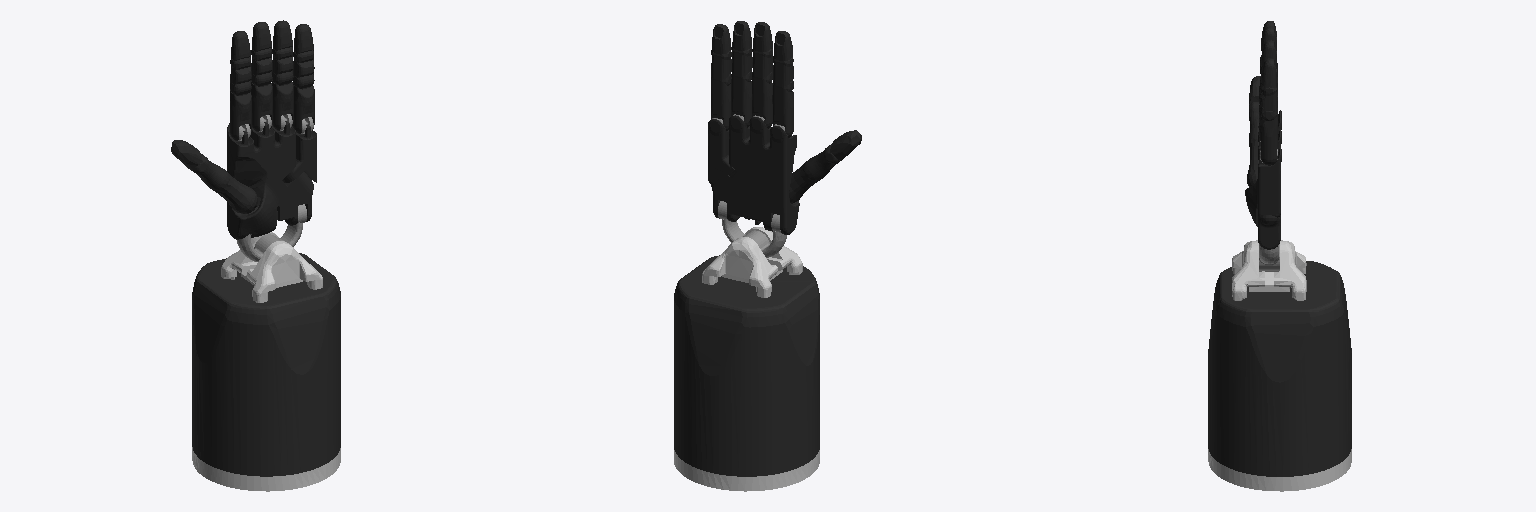
--- Facts derived from the render (not from the file) ---
Views: 3 orthographic renders of the robot side by side, from view 1: azimuth 30°, elevation 25°; view 2: azimuth 150°, elevation 25°; view 3: azimuth 270°, elevation 25°.
Model shadowhand_motor with 32 links and 31 joints (24 revolute, 7 fixed), rooted at lh_forearm, posed every joint at zero.
Links seen in each view (by area): view 1: lh_forearm, lh_palm, lh_wrist, lh_lfmetacarpal, lh_thproximal, lh_ffproximal, lh_mfproximal, lh_rfproximal, lh_lfproximal, lh_ffmiddle, lh_thmiddle, lh_rfmiddle (+3 smaller); view 2: lh_forearm, lh_palm, lh_lfmetacarpal, lh_wrist, lh_ffproximal, lh_mfproximal, lh_rfproximal, lh_lfproximal, lh_thmiddle, lh_ffmiddle, lh_rfmiddle, lh_lfmiddle (+3 smaller); view 3: lh_forearm, lh_palm, lh_lfmetacarpal, lh_lfproximal, lh_lfmiddle.
Boxes of the visible links, box(x1,y1,x2,y2) form: lh_forearm: box(192, 232, 340, 491); lh_palm: box(227, 121, 313, 239); lh_wrist: box(237, 204, 306, 261); lh_lfmetacarpal: box(282, 125, 316, 182); lh_thproximal: box(213, 173, 257, 213); lh_ffproximal: box(230, 90, 251, 140); lh_mfproximal: box(251, 81, 272, 131); lh_rfproximal: box(272, 80, 293, 130); lh_lfproximal: box(293, 84, 314, 133); lh_ffmiddle: box(230, 57, 251, 95); lh_thmiddle: box(188, 153, 229, 191); lh_rfmiddle: box(272, 47, 293, 85); lh_forearm: box(674, 227, 819, 491); lh_palm: box(711, 115, 799, 234); lh_lfmetacarpal: box(708, 119, 736, 184); lh_wrist: box(718, 201, 786, 257); lh_ffproximal: box(772, 86, 793, 137); lh_mfproximal: box(752, 77, 772, 128); lh_rfproximal: box(731, 76, 751, 127); lh_lfproximal: box(711, 79, 730, 130); lh_thmiddle: box(803, 144, 839, 181); lh_ffmiddle: box(773, 56, 793, 91); lh_rfmiddle: box(731, 47, 752, 81); lh_lfmiddle: box(711, 50, 731, 85); lh_forearm: box(1208, 240, 1351, 491); lh_palm: box(1245, 110, 1281, 249); lh_lfmetacarpal: box(1258, 147, 1281, 217); lh_lfproximal: box(1259, 115, 1277, 165); lh_lfmiddle: box(1260, 85, 1277, 120).
Size in the robot's own frame: 0.1784 by 0.1351 by 0.4454 metres.
Meshes: 11 distinct files referenced, 23 mesh visuals loaded (11 Collada DAE).

robot.urdf — shadowhand_motor:
<?xml version="1.0" ?>
<!-- =================================================================================== -->
<!-- |    This document was autogenerated by xacro from shadowhand_left_motor.urdf.xacro | -->
<!-- |    EDITING THIS FILE BY HAND IS NOT RECOMMENDED                                 | -->
<!-- =================================================================================== -->
<robot name="shadowhand_motor" xmlns:body="http://playerstage.sourceforge.net/gazebo/xmlschema/#body" xmlns:controller="http://playerstage.sourceforge.net/gazebo/xmlschema/#controller" xmlns:geom="http://playerstage.sourceforge.net/gazebo/xmlschema/#geom" xmlns:interface="http://playerstage.sourceforge.net/gazebo/xmlschema/#interface" xmlns:joint="http://playerstage.sourceforge.net/gazebo/xmlschema/#slider" xmlns:sensor="http://playerstage.sourceforge.net/gazebo/xmlschema/#sensor" xmlns:xacro="http://www.ros.org/wiki/xacro">
  <material name="Blue">
    <color rgba="0.0 0.0 0.8 1.0"/>
  </material>
  <material name="Green">
    <color rgba="0.0 0.8 0.0 1.0"/>
  </material>
  <material name="BiotacGreen">
    <color rgba="0.31 0.85 0.42 1.0"/>
  </material>
  <material name="Grey">
    <color rgba="0.2 0.2 0.2 1.0"/>
  </material>
  <material name="LightGrey">
    <color rgba="0.6 0.6 0.6 1.0"/>
  </material>
  <material name="Red">
    <color rgba="0.8 0.0 0.0 1.0"/>
  </material>
  <material name="White">
    <color rgba="1.0 1.0 1.0 1.0"/>
  </material>
  <gazebo>
    <plugin filename="libgazebo_ros_control.so" name="gazebo_ros_control">
      <robotSimType>sr_gazebo_sim/SrGazeboHWSim</robotSimType>
    </plugin>
  </gazebo>
  <!-- hand with cylindrical base drifts in gazebo, attach it to the world -->
  <!--link name="world"/>
  <joint name="lh_world_joint" type="fixed">
    <parent link="world"/>
    <child link="lh_forearm"/>
    <origin rpy="0.0 0.0 0.0" xyz="0.0 0.0 0.0"/>
  </joint--> <!-- in pybullet, the inertia need to be specified even for dummy links, otherwise it will put an identity inertia and a mass of 1 by default. The base link should be removed if you want the robot to not have a fixed base! -->
  <link name="lh_forearm">
    <inertial>
      <origin rpy="0 0 0" xyz="0 0 0.09"/>
      <mass value="3.0"/>
      <inertia ixx="0.0138" ixy="0.0" ixz="0.0" iyy="0.0138" iyz="0.0" izz="0.00744"/>
    </inertial>
    <visual>
      <origin rpy="0 0 0" xyz="0 0 0"/>
      <geometry name="lh_forearm_visual">
        <mesh filename="meshes/forearm.dae" scale="0.001 0.001 0.001"/>
      </geometry>
      <material name="light_grey"/>
    </visual>
    <collision>
      <origin rpy="0 0 0" xyz="0 0 0.092"/>
      <geometry name="lh_forearm_collision">
        <cylinder length="0.184" radius="0.07"/>
      </geometry>
      <material name="dark_grey">
        <color rgba="0.21961 0.21961 0.21961 1.0"/>
      </material>
    </collision>
    <!-- wrist mount -->
    <collision>
      <origin rpy="0 0.78 0" xyz="0 -0.01 0.181"/>
      <geometry>
        <box size="0.07 0.07 0.07"/>
      </geometry>
    </collision>
  </link>
  <gazebo reference="lh_forearm">
    <selfCollide>false</selfCollide>
  </gazebo>
  <link name="lh_wrist">
    <inertial>
      <origin rpy="0 0 0" xyz="0 0 0.029"/>
      <mass value="0.1"/>
      <inertia ixx="0.000035" ixy="0.0" ixz="0.0" iyy="0.000064" iyz="0.0" izz="0.0000438"/>
    </inertial>
    <visual>
      <origin rpy="0 0 0" xyz="0 0 0"/>
      <geometry name="lh_wrist_visual">
        <mesh filename="meshes/wrist.dae" scale="-0.001 0.001 0.001"/>
      </geometry>
      <material name="LightGrey"/>
    </visual>
    <collision>
      <origin rpy="1.5708 1.5708 0" xyz="0 0 0"/>
      <geometry name="lh_wrist_collision_geom">
        <cylinder length="0.030" radius="0.0135"/>
      </geometry>
    </collision>
    <collision>
      <origin rpy="0 1.5708 0" xyz="0.026 0 0.034"/>
      <geometry>
        <cylinder length="0.010" radius="0.011"/>
      </geometry>
    </collision>
    <collision>
      <origin rpy="0 1.5708 0" xyz="-0.031 0 0.034"/>
      <geometry>
        <cylinder length="0.010" radius="0.011"/>
      </geometry>
    </collision>
    <collision>
      <origin rpy="0 -0.7854 0" xyz="0.021 0 0.011"/>
      <geometry>
        <box size="0.027 0.018 0.010"/>
      </geometry>
    </collision>
    <collision>
      <origin rpy="0 0.7854 0" xyz="-0.026 0 0.010"/>
      <geometry>
        <box size="0.027 0.018 0.010"/>
      </geometry>
    </collision>
  </link>
  <gazebo reference="lh_wrist">
    <material>Gazebo/White</material>
    <selfCollide>false</selfCollide>
  </gazebo>
  <joint name="lh_WRJ2" type="revolute">
    <parent link="lh_forearm"/>
    <child link="lh_wrist"/>
    <origin rpy="0 0 0" xyz="0 -0.010 0.213"/>
    <axis xyz="0 -1.0 0"/>
    <limit effort="10" lower="-0.523598775598" upper="0.174532925199" velocity="2.0"/>
    <dynamics damping="0.1"/>
  </joint>
  <gazebo reference="lh_WRJ2">
    <provideFeedback>1</provideFeedback>
    <implicitSpringDamper>1</implicitSpringDamper>
  </gazebo>
  <transmission name="lh_wrist_transmission">
    <type>sr_mechanism_model/SimpleTransmission</type>
    <actuator name="lh_WRJ2">
      <mechanicalReduction>1</mechanicalReduction>
    </actuator>
    <joint name="lh_WRJ2">
      <hardwareInterface>EffortJointInterface</hardwareInterface>
      <hardwareInterface>PositionJointInterface</hardwareInterface>
    </joint>
  </transmission>
  <link name="lh_palm">
    <inertial>
      <origin rpy="0 0 0" xyz="0 0 0.035"/>
      <mass value="0.3"/>
      <inertia ixx="0.0003581" ixy="0.0" ixz="0.0" iyy="0.0005287" iyz="0.0" izz="0.000191"/>
    </inertial>
    <visual>
      <origin rpy="0 0 0" xyz="0 0 0"/>
      <geometry name="lh_palm_visual">
        <mesh filename="meshes/palm.dae" scale="-0.001 0.001 0.001"/>
      </geometry>
      <material name="Grey"/>
    </visual>
    <collision>
      <origin rpy="0 0 0" xyz="-0.011 0.0085 0.038"/>
      <geometry name="lh_palm_collision_geom">
        <box size="0.062 0.007 0.098"/>
      </geometry>
    </collision>
    <collision>
      <origin rpy="0 0 0" xyz="0.002 -0.0035 0.038"/>
      <geometry>
        <box size="0.036 0.017 0.098"/>
      </geometry>
    </collision>
    <!-- palm complement below first finger -->
    <collision>
      <origin rpy="0 0 0" xyz="-0.029 -0.0035 0.082"/>
      <geometry>
        <box size="0.026 0.017 0.010"/>
      </geometry>
    </collision>
    <collision>
      <origin rpy="0.2 0 -0.25" xyz="-0.0265 -0.001 0.070"/>
      <geometry>
        <box size="0.026 0.014 0.018"/>
      </geometry>
    </collision>
    <!-- thumb pulp side -->
    <collision>
      <origin rpy="0 0 0" xyz="-0.0315 -0.0085 0.001"/>
      <geometry>
        <box size="0.021 0.027 0.024"/>
      </geometry>
    </collision>
    <!-- thumb pulp central -->
    <collision>
      <origin rpy="0 0 0.48" xyz="-0.0125 -0.015 0.009"/>
      <geometry>
        <box size="0.022 0.005 0.040"/>
      </geometry>
    </collision>
    <!-- above middle finger-->
    <collision>
      <origin rpy="0 0 0" xyz="-0.011 0 0.089"/>
      <geometry>
        <box size="0.018 0.024 0.004"/>
      </geometry>
    </collision>
    <!-- metacarpal side-->
    <collision>
      <origin rpy="0 0 0" xyz="0.03 0 0.009"/>
      <geometry>
        <box size="0.020 0.024 0.040"/>
      </geometry>
    </collision>
  </link>
  <joint name="lh_ee_fixed_joint" type="fixed">
    <parent link="lh_palm"/>
    <child link="lh_manipulator"/>
    <origin rpy="0.0 0.0 0.0" xyz="0.0 0.0 0.05"/>
  </joint>
  <link name="lh_manipulator"/>
  <joint name="lh_WRJ1" type="revolute">
    <parent link="lh_wrist"/>
    <child link="lh_palm"/>
    <origin rpy="0 0 0" xyz="0 0 0.034"/>
    <axis xyz="1 0 0"/>
    <limit effort="30" lower="-0.698131700798" upper="0.488692190558" velocity="2.0"/>
    <dynamics damping="0.1"/>
  </joint>
  <gazebo reference="lh_WRJ1">
    <provideFeedback>1</provideFeedback>
    <implicitSpringDamper>1</implicitSpringDamper>
  </gazebo>
  <link name="lh_imu"/>
  <joint name="lh_palm_to_imu" type="fixed">
    <parent link="lh_palm"/>
    <child link="lh_imu"/>
    <origin rpy="-1.5707963 3.141592 0.0" xyz="0.01785 0.00765 0.049125"/>
  </joint>
  <sensor name="lh_imu" update_rate="100">
    <parent link="lh_imu"/>
    <origin rpy="0 0 0" xyz="0 0 0"/>
  </sensor>
  <transmission name="lh_palm_transmission">
    <type>sr_mechanism_model/SimpleTransmission</type>
    <actuator name="lh_WRJ1">
      <mechanicalReduction>1</mechanicalReduction>
    </actuator>
    <joint name="lh_WRJ1">
      <hardwareInterface>EffortJointInterface</hardwareInterface>
      <hardwareInterface>PositionJointInterface</hardwareInterface>
    </joint>
  </transmission>
  <!-- prefix can be anything but usually is "r_" or  "l_" for right and left hands distinction -->
  <gazebo reference="lh_palm">
    <sensor name="lh_palm_contact" type="contact">
      <always_on>1</always_on>
      <update_rate>1000.0</update_rate>
      <contact>
        <collision>lh_palm_collision</collision>
        <topic>lh_palm_collision</topic>
      </contact>
      <plugin filename="libgazebo_ros_bumper.so" name="lh_palm_gazebo_ros_bumper_controller">
        <alwaysOn>true</alwaysOn>
        <frameName>lh_palm</frameName>
        <updateRate>100.0</updateRate>
        <bumperTopicName>contacts/lh_palm</bumperTopicName>
      </plugin>
    </sensor>
  </gazebo>
  <link name="lh_ffknuckle">
    <inertial>
      <origin rpy="0 0 0" xyz="0 0 0"/>
      <mass value="0.008"/>
      <inertia ixx="0.00000026" ixy="0.0" ixz="0.0" iyy="0.00000026" iyz="0.0" izz="0.00000032"/>
    </inertial>
    <visual>
      <origin rpy="0 0 0" xyz="0 0 0.0005"/>
      <geometry name="lh_ffknuckle_visual">
        <mesh filename="meshes/knuckle.dae" scale="0.001 0.001 0.001"/>
      </geometry>
      <material name="LightGrey"/>
    </visual>
    <collision>
      <origin rpy="0 1.5708 0" xyz="0 0 0"/>
      <geometry name="lh_ffknuckle_collision_geom">
        <cylinder length="0.014" radius="0.007"/>
      </geometry>
    </collision>
  </link>
  <joint name="lh_FFJ4" type="revolute">
    <parent link="lh_palm"/>
    <child link="lh_ffknuckle"/>
    <!--<origin xyz="0.033 0 0.095" rpy="0 0 0" />-->
    <origin rpy="0 0 0" xyz="-0.033 0 0.095"/>
    <axis xyz="0 1.0 0"/>
    <limit effort="2" lower="-0.349065850399" upper="0.349065850399" velocity="2.0"/>
    <dynamics damping="0.1"/>
  </joint>
  <gazebo reference="lh_FFJ4">
    <provideFeedback>1</provideFeedback>
    <implicitSpringDamper>1</implicitSpringDamper>
  </gazebo>
  <transmission name="lh_ffknuckle_transmission">
    <type>sr_mechanism_model/SimpleTransmission</type>
    <actuator name="lh_FFJ4">
      <mechanicalReduction>1</mechanicalReduction>
    </actuator>
    <joint name="lh_FFJ4">
      <hardwareInterface>EffortJointInterface</hardwareInterface>
      <hardwareInterface>PositionJointInterface</hardwareInterface>
    </joint>
  </transmission>
  <!-- prefix can be anything but usually is "r_" or  "l_" for right and left hands distinction -->
  <gazebo reference="lh_ffknuckle">
    <sensor name="lh_ffknuckle_contact" type="contact">
      <always_on>1</always_on>
      <update_rate>1000.0</update_rate>
      <contact>
        <collision>lh_ffknuckle_collision</collision>
        <topic>lh_ffknuckle_collision</topic>
      </contact>
      <plugin filename="libgazebo_ros_bumper.so" name="lh_ffknuckle_gazebo_ros_bumper_controller">
        <alwaysOn>true</alwaysOn>
        <frameName>lh_ffknuckle</frameName>
        <updateRate>100.0</updateRate>
        <bumperTopicName>contacts/lh_ff/knuckle</bumperTopicName>
      </plugin>
    </sensor>
    <material>Gazebo/Grey</material>
  </gazebo>
  <link name="lh_ffproximal">
    <inertial>
      <mass value="0.030"/>
      <origin xyz="0 0 0.0225"/>
      <inertia ixx="0.0000098" ixy="0.0" ixz="0.0" iyy="0.00001" iyz="0.0" izz="0.0000018"/>
    </inertial>
    <visual>
      <origin rpy="0 0 0" xyz="0 0 0"/>
      <geometry name="lh_ffproximal_visual">
        <mesh filename="meshes/F3.dae" scale="0.001 0.001 0.001"/>
      </geometry>
      <material name="Grey"/>
    </visual>
    <collision>
      <origin rpy="0 0 0" xyz="0 0 0.025"/>
      <geometry name="lh_ffproximal_collision_geom">
        <cylinder length="0.040" radius="0.007"/>
      </geometry>
    </collision>
  </link>
  <joint name="lh_FFJ3" type="revolute">
    <parent link="lh_ffknuckle"/>
    <child link="lh_ffproximal"/>
    <origin rpy="0 0 0" xyz="0 0 0"/>
    <axis xyz="1 0 0"/>
    <limit effort="2" lower="0" upper="1.57079632679" velocity="2.0"/>
    <dynamics damping="0.1"/>
  </joint>
  <gazebo reference="lh_FFJ3">
    <provideFeedback>1</provideFeedback>
    <implicitSpringDamper>1</implicitSpringDamper>
  </gazebo>
  <transmission name="lh_ffproximal_transmission">
    <type>sr_mechanism_model/SimpleTransmission</type>
    <actuator name="lh_FFJ3">
      <mechanicalReduction>1</mechanicalReduction>
    </actuator>
    <joint name="lh_FFJ3">
      <hardwareInterface>EffortJointInterface</hardwareInterface>
      <hardwareInterface>PositionJointInterface</hardwareInterface>
    </joint>
  </transmission>
  <!-- prefix can be anything but usually is "r_" or  "l_" for right and left hands distinction -->
  <gazebo reference="lh_ffproximal">
    <sensor name="lh_ffproximal_contact" type="contact">
      <always_on>1</always_on>
      <update_rate>1000.0</update_rate>
      <contact>
        <collision>lh_ffproximal_collision</collision>
        <topic>lh_ffproximal_collision</topic>
      </contact>
      <plugin filename="libgazebo_ros_bumper.so" name="lh_ffproximal_gazebo_ros_bumper_controller">
        <alwaysOn>true</alwaysOn>
        <frameName>lh_ffproximal</frameName>
        <updateRate>100.0</updateRate>
        <bumperTopicName>contacts/lh_ff/proximal</bumperTopicName>
      </plugin>
    </sensor>
    <selfCollide>true</selfCollide>
  </gazebo>
  <link name="lh_ffmiddle">
    <inertial>
      <origin rpy="0 0 0" xyz="0 0 0.0125"/>
      <mass value="0.017"/>
      <inertia ixx="0.0000026" ixy="0.0" ixz="0.0" iyy="0.0000027" iyz="0.0" izz="0.00000087"/>
    </inertial>
    <visual>
      <origin rpy="0 0 0" xyz="0 0 0"/>
      <geometry name="lh_ffmiddle_visual">
        <mesh filename="meshes/F2.dae" scale="0.001 0.001 0.001"/>
      </geometry>
      <material name="Grey"/>
    </visual>
    <collision>
      <origin rpy="0 0 0" xyz="0 0 0.0125"/>
      <geometry name="lh_ffmiddle_collision_geom">
        <cylinder length="0.025" radius="0.007"/>
      </geometry>
    </collision>
    <collision>
      <origin rpy="0 0 0" xyz="0 0 0.0"/>
      <geometry>
        <sphere radius="0.007"/>
      </geometry>
    </collision>
    <collision>
      <origin rpy="0 0 0" xyz="0 0 0.025"/>
      <geometry>
        <sphere radius="0.007"/>
      </geometry>
    </collision>
  </link>
  <joint name="lh_FFJ2" type="revolute">
    <parent link="lh_ffproximal"/>
    <child link="lh_ffmiddle"/>
    <origin rpy="0 0 0" xyz="0 0 0.045"/>
    <axis xyz="1 0 0"/>
    <limit effort="2" lower="0" upper="1.57079632679" velocity="2.0"/>
    <dynamics damping="0.1"/>
  </joint>
  <gazebo reference="lh_FFJ2">
    <provideFeedback>1</provideFeedback>
    <implicitSpringDamper>1</implicitSpringDamper>
  </gazebo>
  <transmission name="lh_ffmiddle_transmission">
    <type>sr_mechanism_model/J0Transmission</type>
    <actuator name="lh_FFJ0">
      <mechanicalReduction>1</mechanicalReduction>
    </actuator>
    <joint name="lh_FFJ1">
      <hardwareInterface>EffortJointInterface</hardwareInterface>
      <hardwareInterface>PositionJointInterface</hardwareInterface>
    </joint>
    <secondJoint name="lh_FFJ2"/>
  </transmission>
  <!-- prefix can be anything but usually is "r_" or  "l_" for right and left hands distinction -->
  <gazebo reference="lh_ffmiddle">
    <sensor name="lh_ffmiddle_contact" type="contact">
      <always_on>1</always_on>
      <update_rate>1000.0</update_rate>
      <contact>
        <collision>lh_ffmiddle_collision</collision>
        <topic>lh_ffmiddle_collision</topic>
      </contact>
      <plugin filename="libgazebo_ros_bumper.so" name="lh_ffproximal_gazebo_ros_bumper_controller">
        <alwaysOn>true</alwaysOn>
        <frameName>lh_ffmiddle</frameName>
        <updateRate>100.0</updateRate>
        <bumperTopicName>contacts/lh_ff/middle</bumperTopicName>
      </plugin>
    </sensor>
    <selfCollide>true</selfCollide>
  </gazebo>
  <link name="lh_ffdistal">
    <inertial>
      <mass value="0.012"/>
      <origin xyz="0 0 0.012"/>
      <inertia ixx="0.00000094" ixy="0.0" ixz="0.0" iyy="0.0000011" iyz="0.0" izz="0.00000053"/>
    </inertial>
    <visual>
      <origin rpy="0 0 0" xyz="0 0 0"/>
      <geometry name="lh_ffdistal_visual">
        <!-- Standard distal  -->
        <mesh filename="meshes/F1.dae" scale="0.001 0.001 0.001"/>
      </geometry>
      <material name="Grey"/>
    </visual>
    <collision>
      <origin rpy="0 0 0" xyz="0 0 0"/>
      <geometry name="lh_ffdistal_collision_geom">
        <!-- Standard distal  -->
        <mesh filename="meshes/F1.dae" scale="0.001 0.001 0.001"/>
      </geometry>
    </collision>
  </link>
  <joint name="lh_FFJ1" type="revolute">
    <parent link="lh_ffmiddle"/>
    <child link="lh_ffdistal"/>
    <origin rpy="0 0 0" xyz="0 0 0.025"/>
    <axis xyz="1 0 0"/>
    <!-- standard distal joint -->
    <limit effort="2" lower="0" upper="1.57079632679" velocity="2.0"/>
    <dynamics damping="0.1"/>
  </joint>
  <gazebo reference="lh_FFJ1">
    <provideFeedback>1</provideFeedback>
    <implicitSpringDamper>1</implicitSpringDamper>
  </gazebo>
  <link name="lh_fftip">
    <inertial>
      <mass value="0.001"/>
      <inertia ixx="0.0" ixy="0.0" ixz="0.0" iyy="0.0" iyz="0.0" izz="0.0"/>
    </inertial>
  </link>
  <joint name="lh_FFtip" type="fixed">
    <parent link="lh_ffdistal"/>
    <child link="lh_fftip"/>
    <origin rpy="0 0 0" xyz="0 0 0.026"/>
  </joint>
  <!-- prefix can be anything but usually is "r_" or  "l_" for right and left hands distinction -->
  <gazebo reference="lh_ffdistal">
    <sensor name="lh_ffdistal_contact" type="contact">
      <always_on>1</always_on>
      <update_rate>1000.0</update_rate>
      <contact>
        <collision>lh_ffdistal_collision</collision>
        <topic>lh_ffdistal_collision</topic>
      </contact>
      <plugin filename="libgazebo_ros_bumper.so" name="lh_ffdistal_gazebo_ros_bumper_controller">
        <alwaysOn>true</alwaysOn>
        <frameName>lh_ffdistal</frameName>
        <updateRate>100.0</updateRate>
        <bumperTopicName>contacts/lh_ff/distal</bumperTopicName>
      </plugin>
    </sensor>
    <mu1 value="500.0"/>
    <mu2 value="500.0"/>
    <kp value="10000000.0"/>
    <kd value="1.0"/>
    <selfCollide>true</selfCollide>
  </gazebo>
  <link name="lh_mfknuckle">
    <inertial>
      <origin rpy="0 0 0" xyz="0 0 0"/>
      <mass value="0.008"/>
      <inertia ixx="0.00000026" ixy="0.0" ixz="0.0" iyy="0.00000026" iyz="0.0" izz="0.00000032"/>
    </inertial>
    <visual>
      <origin rpy="0 0 0" xyz="0 0 0.0005"/>
      <geometry name="lh_mfknuckle_visual">
        <mesh filename="meshes/knuckle.dae" scale="0.001 0.001 0.001"/>
      </geometry>
      <material name="LightGrey"/>
    </visual>
    <collision>
      <origin rpy="0 1.5708 0" xyz="0 0 0"/>
      <geometry name="lh_mfknuckle_collision_geom">
        <cylinder length="0.014" radius="0.007"/>
      </geometry>
    </collision>
  </link>
  <joint name="lh_MFJ4" type="revolute">
    <parent link="lh_palm"/>
    <child link="lh_mfknuckle"/>
    <!--<origin xyz="0.033 0 0.095" rpy="0 0 0" />-->
    <origin rpy="0 0 0" xyz="-0.011 0 0.099"/>
    <axis xyz="0 1.0 0"/>
    <limit effort="2" lower="-0.349065850399" upper="0.349065850399" velocity="2.0"/>
    <dynamics damping="0.1"/>
  </joint>
  <gazebo reference="lh_MFJ4">
    <provideFeedback>1</provideFeedback>
    <implicitSpringDamper>1</implicitSpringDamper>
  </gazebo>
  <transmission name="lh_mfknuckle_transmission">
    <type>sr_mechanism_model/SimpleTransmission</type>
    <actuator name="lh_MFJ4">
      <mechanicalReduction>1</mechanicalReduction>
    </actuator>
    <joint name="lh_MFJ4">
      <hardwareInterface>EffortJointInterface</hardwareInterface>
      <hardwareInterface>PositionJointInterface</hardwareInterface>
    </joint>
  </transmission>
  <!-- prefix can be anything but usually is "r_" or  "l_" for right and left hands distinction -->
  <gazebo reference="lh_mfknuckle">
    <sensor name="lh_mfknuckle_contact" type="contact">
      <always_on>1</always_on>
      <update_rate>1000.0</update_rate>
      <contact>
        <collision>lh_mfknuckle_collision</collision>
        <topic>lh_mfknuckle_collision</topic>
      </contact>
      <plugin filename="libgazebo_ros_bumper.so" name="lh_mfknuckle_gazebo_ros_bumper_controller">
        <alwaysOn>true</alwaysOn>
        <frameName>lh_mfknuckle</frameName>
        <updateRate>100.0</updateRate>
        <bumperTopicName>contacts/lh_mf/knuckle</bumperTopicName>
      </plugin>
    </sensor>
    <material>Gazebo/Grey</material>
  </gazebo>
  <link name="lh_mfproximal">
    <inertial>
      <mass value="0.030"/>
      <origin xyz="0 0 0.0225"/>
      <inertia ixx="0.0000098" ixy="0.0" ixz="0.0" iyy="0.00001" iyz="0.0" izz="0.0000018"/>
    </inertial>
    <visual>
      <origin rpy="0 0 0" xyz="0 0 0"/>
      <geometry name="lh_mfproximal_visual">
        <mesh filename="meshes/F3.dae" scale="0.001 0.001 0.001"/>
      </geometry>
      <material name="Grey"/>
    </visual>
    <collision>
      <origin rpy="0 0 0" xyz="0 0 0.025"/>
      <geometry name="lh_mfproximal_collision_geom">
        <cylinder length="0.040" radius="0.007"/>
      </geometry>
    </collision>
  </link>
  <joint name="lh_MFJ3" type="revolute">
    <parent link="lh_mfknuckle"/>
    <child link="lh_mfproximal"/>
    <origin rpy="0 0 0" xyz="0 0 0"/>
    <axis xyz="1 0 0"/>
    <limit effort="2" lower="0" upper="1.57079632679" velocity="2.0"/>
    <dynamics damping="0.1"/>
  </joint>
  <gazebo reference="lh_MFJ3">
    <provideFeedback>1</provideFeedback>
    <implicitSpringDamper>1</implicitSpringDamper>
  </gazebo>
  <transmission name="lh_mfproximal_transmission">
    <type>sr_mechanism_model/SimpleTransmission</type>
    <actuator name="lh_MFJ3">
      <mechanicalReduction>1</mechanicalReduction>
    </actuator>
    <joint name="lh_MFJ3">
      <hardwareInterface>EffortJointInterface</hardwareInterface>
      <hardwareInterface>PositionJointInterface</hardwareInterface>
    </joint>
  </transmission>
  <!-- prefix can be anything but usually is "r_" or  "l_" for right and left hands distinction -->
  <gazebo reference="lh_mfproximal">
    <sensor name="lh_mfproximal_contact" type="contact">
      <always_on>1</always_on>
      <update_rate>1000.0</update_rate>
      <contact>
        <collision>lh_mfproximal_collision</collision>
        <topic>lh_mfproximal_collision</topic>
      </contact>
      <plugin filename="libgazebo_ros_bumper.so" name="lh_mfproximal_gazebo_ros_bumper_controller">
        <alwaysOn>true</alwaysOn>
        <frameName>lh_mfproximal</frameName>
        <updateRate>100.0</updateRate>
        <bumperTopicName>contacts/lh_mf/proximal</bumperTopicName>
      </plugin>
    </sensor>
    <selfCollide>true</selfCollide>
  </gazebo>
  <link name="lh_mfmiddle">
    <inertial>
      <origin rpy="0 0 0" xyz="0 0 0.0125"/>
      <mass value="0.017"/>
      <inertia ixx="0.0000026" ixy="0.0" ixz="0.0" iyy="0.0000027" iyz="0.0" izz="0.00000087"/>
    </inertial>
    <visual>
      <origin rpy="0 0 0" xyz="0 0 0"/>
      <geometry name="lh_mfmiddle_visual">
        <mesh filename="meshes/F2.dae" scale="0.001 0.001 0.001"/>
      </geometry>
      <material name="Grey"/>
    </visual>
    <collision>
      <origin rpy="0 0 0" xyz="0 0 0.0125"/>
      <geometry name="lh_mfmiddle_collision_geom">
        <cylinder length="0.025" radius="0.007"/>
      </geometry>
    </collision>
    <collision>
      <origin rpy="0 0 0" xyz="0 0 0.0"/>
      <geometry>
        <sphere radius="0.007"/>
      </geometry>
    </collision>
    <collision>
      <origin rpy="0 0 0" xyz="0 0 0.025"/>
      <geometry>
        <sphere radius="0.007"/>
      </geometry>
    </collision>
  </link>
  <joint name="lh_MFJ2" type="revolute">
    <parent link="lh_mfproximal"/>
    <child link="lh_mfmiddle"/>
    <origin rpy="0 0 0" xyz="0 0 0.045"/>
    <axis xyz="1 0 0"/>
    <limit effort="2" lower="0" upper="1.57079632679" velocity="2.0"/>
    <dynamics damping="0.1"/>
  </joint>
  <gazebo reference="lh_MFJ2">
    <provideFeedback>1</provideFeedback>
    <implicitSpringDamper>1</implicitSpringDamper>
  </gazebo>
  <transmission name="lh_mfmiddle_transmission">
    <type>sr_mechanism_model/J0Transmission</type>
    <actuator name="lh_MFJ0">
      <mechanicalReduction>1</mechanicalReduction>
    </actuator>
    <joint name="lh_MFJ1">
      <hardwareInterface>EffortJointInterface</hardwareInterface>
      <hardwareInterface>PositionJointInterface</hardwareInterface>
    </joint>
    <secondJoint name="lh_MFJ2"/>
  </transmission>
  <!-- prefix can be anything but usually is "r_" or  "l_" for right and left hands distinction -->
  <gazebo reference="lh_mfmiddle">
    <sensor name="lh_mfmiddle_contact" type="contact">
      <always_on>1</always_on>
      <update_rate>1000.0</update_rate>
      <contact>
        <collision>lh_mfmiddle_collision</collision>
        <topic>lh_mfmiddle_collision</topic>
      </contact>
      <plugin filename="libgazebo_ros_bumper.so" name="lh_mfproximal_gazebo_ros_bumper_controller">
        <alwaysOn>true</alwaysOn>
        <frameName>lh_mfmiddle</frameName>
        <updateRate>100.0</updateRate>
        <bumperTopicName>contacts/lh_mf/middle</bumperTopicName>
      </plugin>
    </sensor>
    <selfCollide>true</selfCollide>
  </gazebo>
  <link name="lh_mfdistal">
    <inertial>
      <mass value="0.012"/>
      <origin xyz="0 0 0.012"/>
      <inertia ixx="0.00000094" ixy="0.0" ixz="0.0" iyy="0.0000011" iyz="0.0" izz="0.00000053"/>
    </inertial>
    <visual>
      <origin rpy="0 0 0" xyz="0 0 0"/>
      <geometry name="lh_mfdistal_visual">
        <!-- Standard distal  -->
        <mesh filename="meshes/F1.dae" scale="0.001 0.001 0.001"/>
      </geometry>
      <material name="Grey"/>
    </visual>
    <collision>
      <origin rpy="0 0 0" xyz="0 0 0"/>
      <geometry name="lh_mfdistal_collision_geom">
        <!-- Standard distal  -->
        <mesh filename="meshes/F1.dae" scale="0.001 0.001 0.001"/>
      </geometry>
    </collision>
  </link>
  <joint name="lh_MFJ1" type="revolute">
    <parent link="lh_mfmiddle"/>
    <child link="lh_mfdistal"/>
    <origin rpy="0 0 0" xyz="0 0 0.025"/>
    <axis xyz="1 0 0"/>
    <!-- standard distal joint -->
    <limit effort="2" lower="0" upper="1.57079632679" velocity="2.0"/>
    <dynamics damping="0.1"/>
  </joint>
  <gazebo reference="lh_MFJ1">
    <provideFeedback>1</provideFeedback>
    <implicitSpringDamper>1</implicitSpringDamper>
  </gazebo>
  <link name="lh_mftip">
    <inertial>
      <mass value="0.001"/>
      <inertia ixx="0.0" ixy="0.0" ixz="0.0" iyy="0.0" iyz="0.0" izz="0.0"/>
    </inertial>
  </link>
  <joint name="lh_MFtip" type="fixed">
    <parent link="lh_mfdistal"/>
    <child link="lh_mftip"/>
    <origin rpy="0 0 0" xyz="0 0 0.026"/>
  </joint>
  <!-- prefix can be anything but usually is "r_" or  "l_" for right and left hands distinction -->
  <gazebo reference="lh_mfdistal">
    <sensor name="lh_mfdistal_contact" type="contact">
      <always_on>1</always_on>
      <update_rate>1000.0</update_rate>
      <contact>
        <collision>lh_mfdistal_collision</collision>
        <topic>lh_mfdistal_collision</topic>
      </contact>
      <plugin filename="libgazebo_ros_bumper.so" name="lh_mfdistal_gazebo_ros_bumper_controller">
        <alwaysOn>true</alwaysOn>
        <frameName>lh_mfdistal</frameName>
        <updateRate>100.0</updateRate>
        <bumperTopicName>contacts/lh_mf/distal</bumperTopicName>
      </plugin>
    </sensor>
    <mu1 value="500.0"/>
    <mu2 value="500.0"/>
    <kp value="10000000.0"/>
    <kd value="1.0"/>
    <selfCollide>true</selfCollide>
  </gazebo>
  <link name="lh_rfknuckle">
    <inertial>
      <origin rpy="0 0 0" xyz="0 0 0"/>
      <mass value="0.008"/>
      <inertia ixx="0.00000026" ixy="0.0" ixz="0.0" iyy="0.00000026" iyz="0.0" izz="0.00000032"/>
    </inertial>
    <visual>
      <origin rpy="0 0 0" xyz="0 0 0.0005"/>
      <geometry name="lh_rfknuckle_visual">
        <mesh filename="meshes/knuckle.dae" scale="0.001 0.001 0.001"/>
      </geometry>
      <material name="LightGrey"/>
    </visual>
    <collision>
      <origin rpy="0 1.5708 0" xyz="0 0 0"/>
      <geometry name="lh_rfknuckle_collision_geom">
        <cylinder length="0.014" radius="0.007"/>
      </geometry>
    </collision>
  </link>
  <joint name="lh_RFJ4" type="revolute">
    <parent link="lh_palm"/>
    <child link="lh_rfknuckle"/>
    <!--<origin xyz="0.033 0 0.095" rpy="0 0 0" />-->
    <origin rpy="0 0 0" xyz="0.011 0 0.095"/>
    <axis xyz="0 -1.0 0"/>
    <limit effort="2" lower="-0.349065850399" upper="0.349065850399" velocity="2.0"/>
    <dynamics damping="0.1"/>
  </joint>
  <gazebo reference="lh_RFJ4">
    <provideFeedback>1</provideFeedback>
    <implicitSpringDamper>1</implicitSpringDamper>
  </gazebo>
  <transmission name="lh_rfknuckle_transmission">
    <type>sr_mechanism_model/SimpleTransmission</type>
    <actuator name="lh_RFJ4">
      <mechanicalReduction>1</mechanicalReduction>
    </actuator>
    <joint name="lh_RFJ4">
      <hardwareInterface>EffortJointInterface</hardwareInterface>
      <hardwareInterface>PositionJointInterface</hardwareInterface>
    </joint>
  </transmission>
  <!-- prefix can be anything but usually is "r_" or  "l_" for right and left hands distinction -->
  <gazebo reference="lh_rfknuckle">
    <sensor name="lh_rfknuckle_contact" type="contact">
      <always_on>1</always_on>
      <update_rate>1000.0</update_rate>
      <contact>
        <collision>lh_rfknuckle_collision</collision>
        <topic>lh_rfknuckle_collision</topic>
      </contact>
      <plugin filename="libgazebo_ros_bumper.so" name="lh_rfknuckle_gazebo_ros_bumper_controller">
        <alwaysOn>true</alwaysOn>
        <frameName>lh_rfknuckle</frameName>
        <updateRate>100.0</updateRate>
        <bumperTopicName>contacts/lh_rf/knuckle</bumperTopicName>
      </plugin>
    </sensor>
    <material>Gazebo/Grey</material>
  </gazebo>
  <link name="lh_rfproximal">
    <inertial>
      <mass value="0.030"/>
      <origin xyz="0 0 0.0225"/>
      <inertia ixx="0.0000098" ixy="0.0" ixz="0.0" iyy="0.00001" iyz="0.0" izz="0.0000018"/>
    </inertial>
    <visual>
      <origin rpy="0 0 0" xyz="0 0 0"/>
      <geometry name="lh_rfproximal_visual">
        <mesh filename="meshes/F3.dae" scale="0.001 0.001 0.001"/>
      </geometry>
      <material name="Grey"/>
    </visual>
    <collision>
      <origin rpy="0 0 0" xyz="0 0 0.025"/>
      <geometry name="lh_rfproximal_collision_geom">
        <cylinder length="0.040" radius="0.007"/>
      </geometry>
    </collision>
  </link>
  <joint name="lh_RFJ3" type="revolute">
    <parent link="lh_rfknuckle"/>
    <child link="lh_rfproximal"/>
    <origin rpy="0 0 0" xyz="0 0 0"/>
    <axis xyz="1 0 0"/>
    <limit effort="2" lower="0" upper="1.57079632679" velocity="2.0"/>
    <dynamics damping="0.1"/>
  </joint>
  <gazebo reference="lh_RFJ3">
    <provideFeedback>1</provideFeedback>
    <implicitSpringDamper>1</implicitSpringDamper>
  </gazebo>
  <transmission name="lh_rfproximal_transmission">
    <type>sr_mechanism_model/SimpleTransmission</type>
    <actuator name="lh_RFJ3">
      <mechanicalReduction>1</mechanicalReduction>
    </actuator>
    <joint name="lh_RFJ3">
      <hardwareInterface>EffortJointInterface</hardwareInterface>
      <hardwareInterface>PositionJointInterface</hardwareInterface>
    </joint>
  </transmission>
  <!-- prefix can be anything but usually is "r_" or  "l_" for right and left hands distinction -->
  <gazebo reference="lh_rfproximal">
    <sensor name="lh_rfproximal_contact" type="contact">
      <always_on>1</always_on>
      <update_rate>1000.0</update_rate>
      <contact>
        <collision>lh_rfproximal_collision</collision>
        <topic>lh_rfproximal_collision</topic>
      </contact>
      <plugin filename="libgazebo_ros_bumper.so" name="lh_rfproximal_gazebo_ros_bumper_controller">
        <alwaysOn>true</alwaysOn>
        <frameName>lh_rfproximal</frameName>
        <updateRate>100.0</updateRate>
        <bumperTopicName>contacts/lh_rf/proximal</bumperTopicName>
      </plugin>
    </sensor>
    <selfCollide>true</selfCollide>
  </gazebo>
  <link name="lh_rfmiddle">
    <inertial>
      <origin rpy="0 0 0" xyz="0 0 0.0125"/>
      <mass value="0.017"/>
      <inertia ixx="0.0000026" ixy="0.0" ixz="0.0" iyy="0.0000027" iyz="0.0" izz="0.00000087"/>
    </inertial>
    <visual>
      <origin rpy="0 0 0" xyz="0 0 0"/>
      <geometry name="lh_rfmiddle_visual">
        <mesh filename="meshes/F2.dae" scale="0.001 0.001 0.001"/>
      </geometry>
      <material name="Grey"/>
    </visual>
    <collision>
      <origin rpy="0 0 0" xyz="0 0 0.0125"/>
      <geometry name="lh_rfmiddle_collision_geom">
        <cylinder length="0.025" radius="0.007"/>
      </geometry>
    </collision>
    <collision>
      <origin rpy="0 0 0" xyz="0 0 0.0"/>
      <geometry>
        <sphere radius="0.007"/>
      </geometry>
    </collision>
    <collision>
      <origin rpy="0 0 0" xyz="0 0 0.025"/>
      <geometry>
        <sphere radius="0.007"/>
      </geometry>
    </collision>
  </link>
  <joint name="lh_RFJ2" type="revolute">
    <parent link="lh_rfproximal"/>
    <child link="lh_rfmiddle"/>
    <origin rpy="0 0 0" xyz="0 0 0.045"/>
    <axis xyz="1 0 0"/>
    <limit effort="2" lower="0" upper="1.57079632679" velocity="2.0"/>
    <dynamics damping="0.1"/>
  </joint>
  <gazebo reference="lh_RFJ2">
    <provideFeedback>1</provideFeedback>
    <implicitSpringDamper>1</implicitSpringDamper>
  </gazebo>
  <transmission name="lh_rfmiddle_transmission">
    <type>sr_mechanism_model/J0Transmission</type>
    <actuator name="lh_RFJ0">
      <mechanicalReduction>1</mechanicalReduction>
    </actuator>
    <joint name="lh_RFJ1">
      <hardwareInterface>EffortJointInterface</hardwareInterface>
      <hardwareInterface>PositionJointInterface</hardwareInterface>
    </joint>
    <secondJoint name="lh_RFJ2"/>
  </transmission>
  <!-- prefix can be anything but usually is "r_" or  "l_" for right and left hands distinction -->
  <gazebo reference="lh_rfmiddle">
    <sensor name="lh_rfmiddle_contact" type="contact">
      <always_on>1</always_on>
      <update_rate>1000.0</update_rate>
      <contact>
        <collision>lh_rfmiddle_collision</collision>
        <topic>lh_rfmiddle_collision</topic>
      </contact>
      <plugin filename="libgazebo_ros_bumper.so" name="lh_rfproximal_gazebo_ros_bumper_controller">
        <alwaysOn>true</alwaysOn>
        <frameName>lh_rfmiddle</frameName>
        <updateRate>100.0</updateRate>
        <bumperTopicName>contacts/lh_rf/middle</bumperTopicName>
      </plugin>
    </sensor>
    <selfCollide>true</selfCollide>
  </gazebo>
  <link name="lh_rfdistal">
    <inertial>
      <mass value="0.012"/>
      <origin xyz="0 0 0.012"/>
      <inertia ixx="0.00000094" ixy="0.0" ixz="0.0" iyy="0.0000011" iyz="0.0" izz="0.00000053"/>
    </inertial>
    <visual>
      <origin rpy="0 0 0" xyz="0 0 0"/>
      <geometry name="lh_rfdistal_visual">
        <!-- Standard distal  -->
        <mesh filename="meshes/F1.dae" scale="0.001 0.001 0.001"/>
      </geometry>
      <material name="Grey"/>
    </visual>
    <collision>
      <origin rpy="0 0 0" xyz="0 0 0"/>
      <geometry name="lh_rfdistal_collision_geom">
        <!-- Standard distal  -->
        <mesh filename="meshes/F1.dae" scale="0.001 0.001 0.001"/>
      </geometry>
    </collision>
  </link>
  <joint name="lh_RFJ1" type="revolute">
    <parent link="lh_rfmiddle"/>
    <child link="lh_rfdistal"/>
    <origin rpy="0 0 0" xyz="0 0 0.025"/>
    <axis xyz="1 0 0"/>
    <!-- standard distal joint -->
    <limit effort="2" lower="0" upper="1.57079632679" velocity="2.0"/>
    <dynamics damping="0.1"/>
  </joint>
  <gazebo reference="lh_RFJ1">
    <provideFeedback>1</provideFeedback>
    <implicitSpringDamper>1</implicitSpringDamper>
  </gazebo>
  <link name="lh_rftip">
    <inertial>
      <mass value="0.001"/>
      <inertia ixx="0.0" ixy="0.0" ixz="0.0" iyy="0.0" iyz="0.0" izz="0.0"/>
    </inertial>
  </link>
  <joint name="lh_RFtip" type="fixed">
    <parent link="lh_rfdistal"/>
    <child link="lh_rftip"/>
    <origin rpy="0 0 0" xyz="0 0 0.026"/>
  </joint>
  <!-- prefix can be anything but usually is "r_" or  "l_" for right and left hands distinction -->
  <gazebo reference="lh_rfdistal">
    <sensor name="lh_rfdistal_contact" type="contact">
      <always_on>1</always_on>
      <update_rate>1000.0</update_rate>
      <contact>
        <collision>lh_rfdistal_collision</collision>
        <topic>lh_rfdistal_collision</topic>
      </contact>
      <plugin filename="libgazebo_ros_bumper.so" name="lh_rfdistal_gazebo_ros_bumper_controller">
        <alwaysOn>true</alwaysOn>
        <frameName>lh_rfdistal</frameName>
        <updateRate>100.0</updateRate>
        <bumperTopicName>contacts/lh_rf/distal</bumperTopicName>
      </plugin>
    </sensor>
    <mu1 value="500.0"/>
    <mu2 value="500.0"/>
    <kp value="10000000.0"/>
    <kd value="1.0"/>
    <selfCollide>true</selfCollide>
  </gazebo>
  <link name="lh_lfmetacarpal">
    <inertial>
      <origin rpy="0 0 0" xyz="0 0 0.04"/>
      <mass value="0.030"/>
      <inertia ixx="0.0000145" ixy="0.0" ixz="0.0" iyy="0.00001638" iyz="0.0" izz="0.000004272"/>
    </inertial>
    <visual>
      <origin rpy="0 0 0" xyz="0 0 0"/>
      <geometry name="lh_lfmetacarpal_visual">
        <mesh filename="meshes/lfmetacarpal.dae" scale="-0.001 0.001 0.001"/>
      </geometry>
      <material name="Grey"/>
    </visual>
    <collision>
      <origin rpy="0 0 0" xyz="0 0 0.038"/>
      <geometry name="lh_lfmetacarpal_collision_geom">
        <box size="0.018 0.024 0.040"/>
      </geometry>
    </collision>
  </link>
  <joint name="lh_LFJ5" type="revolute">
    <parent link="lh_palm"/>
    <child link="lh_lfmetacarpal"/>
    <origin rpy="0 0 0" xyz="0.033 0 0.02071"/>
    <axis xyz="0.573576436 0 -0.819152044"/>
    <limit effort="2" lower="0" upper="0.785398163397" velocity="2.0"/>
    <dynamics damping="0.1"/>
  </joint>
  <gazebo reference="lh_LFJ5">
    <provideFeedback>1</provideFeedback>
    <implicitSpringDamper>1</implicitSpringDamper>
  </gazebo>
  <transmission name="lh_lfmetacarpal_transmission">
    <type>sr_mechanism_model/SimpleTransmission</type>
    <actuator name="lh_LFJ5">
      <mechanicalReduction>1</mechanicalReduction>
    </actuator>
    <joint name="lh_LFJ5">
      <hardwareInterface>EffortJointInterface</hardwareInterface>
      <hardwareInterface>PositionJointInterface</hardwareInterface>
    </joint>
  </transmission>
  <!-- prefix can be anything but usually is "r_" or  "l_" for right and left hands distinction -->
  <gazebo reference="lh_lfmetacarpal">
    <sensor name="lh_lfmetacarpal_contact" type="contact">
      <always_on>1</always_on>
      <update_rate>1000.0</update_rate>
      <contact>
        <collision>lh_lfmetacarpal_collision</collision>
        <topic>lh_lfmetacarpal_collision</topic>
      </contact>
      <plugin filename="libgazebo_ros_bumper.so" name="lh_lfmetacarpal_gazebo_ros_bumper_controller">
        <alwaysOn>true</alwaysOn>
        <frameName>lh_lfmetacarpal</frameName>
        <updateRate>100.0</updateRate>
        <bumperTopicName>contacts/lh_lf/metacarpal</bumperTopicName>
      </plugin>
    </sensor>
    <selfCollide>true</selfCollide>
  </gazebo>
  <link name="lh_lfknuckle">
    <inertial>
      <origin rpy="0 0 0" xyz="0 0 0"/>
      <mass value="0.008"/>
      <inertia ixx="0.00000026" ixy="0.0" ixz="0.0" iyy="0.00000026" iyz="0.0" izz="0.00000032"/>
    </inertial>
    <visual>
      <origin rpy="0 0 0" xyz="0 0 0.0005"/>
      <geometry name="lh_lfknuckle_visual">
        <mesh filename="meshes/knuckle.dae" scale="0.001 0.001 0.001"/>
      </geometry>
      <material name="LightGrey"/>
    </visual>
    <collision>
      <origin rpy="0 1.5708 0" xyz="0 0 0"/>
      <geometry name="lh_lfknuckle_collision_geom">
        <cylinder length="0.014" radius="0.007"/>
      </geometry>
    </collision>
  </link>
  <joint name="lh_LFJ4" type="revolute">
    <parent link="lh_lfmetacarpal"/>
    <child link="lh_lfknuckle"/>
    <!--<origin xyz="0.033 0 0.095" rpy="0 0 0" />-->
    <origin rpy="0 0 0" xyz="0 0 0.06579"/>
    <axis xyz="0 -1.0 0"/>
    <limit effort="2" lower="-0.349065850399" upper="0.349065850399" velocity="2.0"/>
    <dynamics damping="0.1"/>
  </joint>
  <gazebo reference="lh_LFJ4">
    <provideFeedback>1</provideFeedback>
    <implicitSpringDamper>1</implicitSpringDamper>
  </gazebo>
  <transmission name="lh_lfknuckle_transmission">
    <type>sr_mechanism_model/SimpleTransmission</type>
    <actuator name="lh_LFJ4">
      <mechanicalReduction>1</mechanicalReduction>
    </actuator>
    <joint name="lh_LFJ4">
      <hardwareInterface>EffortJointInterface</hardwareInterface>
      <hardwareInterface>PositionJointInterface</hardwareInterface>
    </joint>
  </transmission>
  <!-- prefix can be anything but usually is "r_" or  "l_" for right and left hands distinction -->
  <gazebo reference="lh_lfknuckle">
    <sensor name="lh_lfknuckle_contact" type="contact">
      <always_on>1</always_on>
      <update_rate>1000.0</update_rate>
      <contact>
        <collision>lh_lfknuckle_collision</collision>
        <topic>lh_lfknuckle_collision</topic>
      </contact>
      <plugin filename="libgazebo_ros_bumper.so" name="lh_lfknuckle_gazebo_ros_bumper_controller">
        <alwaysOn>true</alwaysOn>
        <frameName>lh_lfknuckle</frameName>
        <updateRate>100.0</updateRate>
        <bumperTopicName>contacts/lh_lf/knuckle</bumperTopicName>
      </plugin>
    </sensor>
    <material>Gazebo/Grey</material>
  </gazebo>
  <link name="lh_lfproximal">
    <inertial>
      <mass value="0.030"/>
      <origin xyz="0 0 0.0225"/>
      <inertia ixx="0.0000098" ixy="0.0" ixz="0.0" iyy="0.00001" iyz="0.0" izz="0.0000018"/>
    </inertial>
    <visual>
      <origin rpy="0 0 0" xyz="0 0 0"/>
      <geometry name="lh_lfproximal_visual">
        <mesh filename="meshes/F3.dae" scale="0.001 0.001 0.001"/>
      </geometry>
      <material name="Grey"/>
    </visual>
    <collision>
      <origin rpy="0 0 0" xyz="0 0 0.025"/>
      <geometry name="lh_lfproximal_collision_geom">
        <cylinder length="0.040" radius="0.007"/>
      </geometry>
    </collision>
  </link>
  <joint name="lh_LFJ3" type="revolute">
    <parent link="lh_lfknuckle"/>
    <child link="lh_lfproximal"/>
    <origin rpy="0 0 0" xyz="0 0 0"/>
    <axis xyz="1 0 0"/>
    <limit effort="2" lower="0" upper="1.57079632679" velocity="2.0"/>
    <dynamics damping="0.1"/>
  </joint>
  <gazebo reference="lh_LFJ3">
    <provideFeedback>1</provideFeedback>
    <implicitSpringDamper>1</implicitSpringDamper>
  </gazebo>
  <transmission name="lh_lfproximal_transmission">
    <type>sr_mechanism_model/SimpleTransmission</type>
    <actuator name="lh_LFJ3">
      <mechanicalReduction>1</mechanicalReduction>
    </actuator>
    <joint name="lh_LFJ3">
      <hardwareInterface>EffortJointInterface</hardwareInterface>
      <hardwareInterface>PositionJointInterface</hardwareInterface>
    </joint>
  </transmission>
  <!-- prefix can be anything but usually is "r_" or  "l_" for right and left hands distinction -->
  <gazebo reference="lh_lfproximal">
    <sensor name="lh_lfproximal_contact" type="contact">
      <always_on>1</always_on>
      <update_rate>1000.0</update_rate>
      <contact>
        <collision>lh_lfproximal_collision</collision>
        <topic>lh_lfproximal_collision</topic>
      </contact>
      <plugin filename="libgazebo_ros_bumper.so" name="lh_lfproximal_gazebo_ros_bumper_controller">
        <alwaysOn>true</alwaysOn>
        <frameName>lh_lfproximal</frameName>
        <updateRate>100.0</updateRate>
        <bumperTopicName>contacts/lh_lf/proximal</bumperTopicName>
      </plugin>
    </sensor>
    <selfCollide>true</selfCollide>
  </gazebo>
  <link name="lh_lfmiddle">
    <inertial>
      <origin rpy="0 0 0" xyz="0 0 0.0125"/>
      <mass value="0.017"/>
      <inertia ixx="0.0000026" ixy="0.0" ixz="0.0" iyy="0.0000027" iyz="0.0" izz="0.00000087"/>
    </inertial>
    <visual>
      <origin rpy="0 0 0" xyz="0 0 0"/>
      <geometry name="lh_lfmiddle_visual">
        <mesh filename="meshes/F2.dae" scale="0.001 0.001 0.001"/>
      </geometry>
      <material name="Grey"/>
    </visual>
    <collision>
      <origin rpy="0 0 0" xyz="0 0 0.0125"/>
      <geometry name="lh_lfmiddle_collision_geom">
        <cylinder length="0.025" radius="0.007"/>
      </geometry>
    </collision>
    <collision>
      <origin rpy="0 0 0" xyz="0 0 0.0"/>
      <geometry>
        <sphere radius="0.007"/>
      </geometry>
    </collision>
    <collision>
      <origin rpy="0 0 0" xyz="0 0 0.025"/>
      <geometry>
        <sphere radius="0.007"/>
      </geometry>
    </collision>
  </link>
  <joint name="lh_LFJ2" type="revolute">
    <parent link="lh_lfproximal"/>
    <child link="lh_lfmiddle"/>
    <origin rpy="0 0 0" xyz="0 0 0.045"/>
    <axis xyz="1 0 0"/>
    <limit effort="2" lower="0" upper="1.57079632679" velocity="2.0"/>
    <dynamics damping="0.1"/>
  </joint>
  <gazebo reference="lh_LFJ2">
    <provideFeedback>1</provideFeedback>
    <implicitSpringDamper>1</implicitSpringDamper>
  </gazebo>
  <transmission name="lh_lfmiddle_transmission">
    <type>sr_mechanism_model/J0Transmission</type>
    <actuator name="lh_LFJ0">
      <mechanicalReduction>1</mechanicalReduction>
    </actuator>
    <joint name="lh_LFJ1">
      <hardwareInterface>EffortJointInterface</hardwareInterface>
      <hardwareInterface>PositionJointInterface</hardwareInterface>
    </joint>
    <secondJoint name="lh_LFJ2"/>
  </transmission>
  <!-- prefix can be anything but usually is "r_" or  "l_" for right and left hands distinction -->
  <gazebo reference="lh_lfmiddle">
    <sensor name="lh_lfmiddle_contact" type="contact">
      <always_on>1</always_on>
      <update_rate>1000.0</update_rate>
      <contact>
        <collision>lh_lfmiddle_collision</collision>
        <topic>lh_lfmiddle_collision</topic>
      </contact>
      <plugin filename="libgazebo_ros_bumper.so" name="lh_lfproximal_gazebo_ros_bumper_controller">
        <alwaysOn>true</alwaysOn>
        <frameName>lh_lfmiddle</frameName>
        <updateRate>100.0</updateRate>
        <bumperTopicName>contacts/lh_lf/middle</bumperTopicName>
      </plugin>
    </sensor>
    <selfCollide>true</selfCollide>
  </gazebo>
  <link name="lh_lfdistal">
    <inertial>
      <mass value="0.012"/>
      <origin xyz="0 0 0.012"/>
      <inertia ixx="0.00000094" ixy="0.0" ixz="0.0" iyy="0.0000011" iyz="0.0" izz="0.00000053"/>
    </inertial>
    <visual>
      <origin rpy="0 0 0" xyz="0 0 0"/>
      <geometry name="lh_lfdistal_visual">
        <!-- Standard distal  -->
        <mesh filename="meshes/F1.dae" scale="0.001 0.001 0.001"/>
      </geometry>
      <material name="Grey"/>
    </visual>
    <collision>
      <origin rpy="0 0 0" xyz="0 0 0"/>
      <geometry name="lh_lfdistal_collision_geom">
        <!-- Standard distal  -->
        <mesh filename="meshes/F1.dae" scale="0.001 0.001 0.001"/>
      </geometry>
    </collision>
  </link>
  <joint name="lh_LFJ1" type="revolute">
    <parent link="lh_lfmiddle"/>
    <child link="lh_lfdistal"/>
    <origin rpy="0 0 0" xyz="0 0 0.025"/>
    <axis xyz="1 0 0"/>
    <!-- standard distal joint -->
    <limit effort="2" lower="0" upper="1.57079632679" velocity="2.0"/>
    <dynamics damping="0.1"/>
  </joint>
  <gazebo reference="lh_LFJ1">
    <provideFeedback>1</provideFeedback>
    <implicitSpringDamper>1</implicitSpringDamper>
  </gazebo>
  <link name="lh_lftip">
    <inertial>
      <mass value="0.001"/>
      <inertia ixx="0.0" ixy="0.0" ixz="0.0" iyy="0.0" iyz="0.0" izz="0.0"/>
    </inertial>
  </link>
  <joint name="lh_LFtip" type="fixed">
    <parent link="lh_lfdistal"/>
    <child link="lh_lftip"/>
    <origin rpy="0 0 0" xyz="0 0 0.026"/>
  </joint>
  <!-- prefix can be anything but usually is "r_" or  "l_" for right and left hands distinction -->
  <gazebo reference="lh_lfdistal">
    <sensor name="lh_lfdistal_contact" type="contact">
      <always_on>1</always_on>
      <update_rate>1000.0</update_rate>
      <contact>
        <collision>lh_lfdistal_collision</collision>
        <topic>lh_lfdistal_collision</topic>
      </contact>
      <plugin filename="libgazebo_ros_bumper.so" name="lh_lfdistal_gazebo_ros_bumper_controller">
        <alwaysOn>true</alwaysOn>
        <frameName>lh_lfdistal</frameName>
        <updateRate>100.0</updateRate>
        <bumperTopicName>contacts/lh_lf/distal</bumperTopicName>
      </plugin>
    </sensor>
    <mu1 value="500.0"/>
    <mu2 value="500.0"/>
    <kp value="10000000.0"/>
    <kd value="1.0"/>
    <selfCollide>true</selfCollide>
  </gazebo>
  <link name="lh_thbase">
    <inertial>
      <mass value="0.010"/>
      <origin rpy="0 0 0" xyz="0 0 0"/>
      <inertia ixx="0.00000016" ixy="0.0" ixz="0.0" iyy="0.00000016" iyz="0.0" izz="0.00000016"/>
    </inertial>
    <visual>
      <origin rpy="0 0 0" xyz="0 0 0"/>
      <geometry name="lh_thbase_visual">
        <box size="0.001 0.001 0.001"/>
      </geometry>
      <material name="shadow_thbase_material">
        <color rgba="0.5 0.5 0.5 1.0"/>
      </material>
    </visual>
    <collision>
      <origin rpy="0 0 0" xyz="0 0 0"/>
      <geometry name="lh_thbase_collision_geom">
        <sphere radius="0.011"/>
      </geometry>
    </collision>
  </link>
  <joint name="lh_THJ5" type="revolute">
    <parent link="lh_palm"/>
    <child link="lh_thbase"/>
    <origin rpy="0 0.785398163397 3.14159265359" xyz="-0.034 -0.0085 0.029"/>
    <axis xyz="0 0 1.0"/>
    <limit effort="5.0" lower="-1.0471975512" upper="1.0471975512" velocity="4.0"/>
    <dynamics damping="0.2"/>
  </joint>
  <gazebo reference="lh_THJ5">
    <provideFeedback>1</provideFeedback>
    <implicitSpringDamper>1</implicitSpringDamper>
  </gazebo>
  <transmission name="lh_thbase_transmission">
    <type>sr_mechanism_model/SimpleTransmission</type>
    <actuator name="lh_THJ5">
      <mechanicalReduction>1</mechanicalReduction>
    </actuator>
    <joint name="lh_THJ5">
      <hardwareInterface>EffortJointInterface</hardwareInterface>
      <hardwareInterface>PositionJointInterface</hardwareInterface>
    </joint>
  </transmission>
  <!-- prefix can be anything but usually is "r_" or  "l_" for right and left hands distinction -->
  <gazebo reference="lh_thbase">
    <sensor name="lh_thbase_contact" type="contact">
      <always_on>1</always_on>
      <update_rate>1000.0</update_rate>
      <contact>
        <collision>lh_thbase_collision</collision>
        <topic>lh_thbase_collision</topic>
      </contact>
      <plugin filename="libgazebo_ros_bumper.so" name="lh_thbase_gazebo_ros_bumper_controller">
        <alwaysOn>true</alwaysOn>
        <frameName>lh_thbase</frameName>
        <updateRate>100.0</updateRate>
        <bumperTopicName>contacts/lh_th/base</bumperTopicName>
      </plugin>
    </sensor>
    <selfCollide>false</selfCollide>
  </gazebo>
  <link name="lh_thproximal">
    <inertial>
      <mass value="0.040"/>
      <origin rpy="0 0 0" xyz="0 0 0.019"/>
      <inertia ixx="0.0000136" ixy="0.0" ixz="0.0" iyy="0.0000136" iyz="0.0" izz="0.00000313"/>
    </inertial>
    <visual>
      <origin rpy="0 0 0" xyz="0 0 0"/>
      <geometry name="lh_thproximal_visual">
        <mesh filename="meshes/TH3_z.dae" scale="0.001 0.001 0.001"/>
      </geometry>
      <material name="shadow_thproximal_material">
        <color rgba="0.2 0.2 0.2 1.0"/>
      </material>
    </visual>
    <collision>
      <origin rpy="0 0 0" xyz="0 0 0.020"/>
      <geometry name="lh_thproximal_collision_geom">
        <cylinder length="0.018" radius="0.012"/>
      </geometry>
    </collision>
  </link>
  <joint name="lh_THJ4" type="revolute">
    <parent link="lh_thbase"/>
    <child link="lh_thproximal"/>
    <origin rpy="0 0 0" xyz="0 0 0"/>
    <axis xyz="-1.0 0 0"/>
    <limit effort="3" lower="0.0" upper="1.2217304764" velocity="4.0"/>
    <dynamics damping="0.2"/>
  </joint>
  <gazebo reference="lh_THJ4">
    <provideFeedback>1</provideFeedback>
    <implicitSpringDamper>1</implicitSpringDamper>
  </gazebo>
  <transmission name="lh_thproximal_transmission">
    <type>sr_mechanism_model/SimpleTransmission</type>
    <actuator name="lh_THJ4">
      <mechanicalReduction>1</mechanicalReduction>
    </actuator>
    <joint name="lh_THJ4">
      <hardwareInterface>EffortJointInterface</hardwareInterface>
      <hardwareInterface>PositionJointInterface</hardwareInterface>
    </joint>
  </transmission>
  <!-- prefix can be anything but usually is "r_" or  "l_" for right and left hands distinction -->
  <gazebo reference="lh_thproximal">
    <sensor name="lh_thproximal_contact" type="contact">
      <always_on>1</always_on>
      <update_rate>1000.0</update_rate>
      <contact>
        <collision>lh_thproximal_collision</collision>
        <topic>lh_thproximal_collision</topic>
      </contact>
      <plugin filename="libgazebo_ros_bumper.so" name="lh_thproximal_gazebo_ros_bumper_controller">
        <alwaysOn>true</alwaysOn>
        <frameName>lh_thproximal</frameName>
        <updateRate>100.0</updateRate>
        <bumperTopicName>contacts/lh_th/proximal</bumperTopicName>
      </plugin>
    </sensor>
    <selfCollide>false</selfCollide>
  </gazebo>
  <link name="lh_thhub">
    <inertial>
      <mass value="0.005"/>
      <origin rpy="0 0 0" xyz="0 0 0"/>
      <inertia ixx="0.000001" ixy="0.0" ixz="0.0" iyy="0.000001" iyz="0.0" izz="0.0000003"/>
    </inertial>
    <visual>
      <origin rpy="0 0 0" xyz="0 0 0"/>
      <geometry name="lh_thhub_visual">
        <box size="0.001 0.001 0.001"/>
      </geometry>
      <material name="shadow_thhub_material">
        <color rgba="0.7 0.7 0.7 1.0"/>
      </material>
    </visual>
    <collision>
      <origin rpy="0 0 0" xyz="0 0 0"/>
      <geometry name="lh_thhub_collision_geom">
        <sphere radius="0.010"/>
      </geometry>
    </collision>
  </link>
  <joint name="lh_THJ3" type="revolute">
    <parent link="lh_thproximal"/>
    <child link="lh_thhub"/>
    <origin rpy="0 0 0" xyz="0 0 0.038"/>
    <axis xyz="1 0 0"/>
    <limit effort="2.0" lower="-0.209439510239" upper="0.209439510239" velocity="4.0"/>
    <dynamics damping="0.2"/>
  </joint>
  <gazebo reference="lh_THJ3">
    <provideFeedback>1</provideFeedback>
    <implicitSpringDamper>1</implicitSpringDamper>
  </gazebo>
  <transmission name="lh_thhub_transmission">
    <type>sr_mechanism_model/SimpleTransmission</type>
    <actuator name="lh_THJ3">
      <mechanicalReduction>1</mechanicalReduction>
    </actuator>
    <joint name="lh_THJ3">
      <hardwareInterface>EffortJointInterface</hardwareInterface>
      <hardwareInterface>PositionJointInterface</hardwareInterface>
    </joint>
  </transmission>
  <!-- prefix can be anything but usually is "r_" or  "l_" for right and left hands distinction -->
  <gazebo reference="lh_thhub">
    <sensor name="lh_thhub_contact" type="contact">
      <always_on>1</always_on>
      <update_rate>1000.0</update_rate>
      <contact>
        <collision>lh_thhub_collision</collision>
        <topic>lh_thhub_collision</topic>
      </contact>
      <plugin filename="libgazebo_ros_bumper.so" name="lh_thhub_gazebo_ros_bumper_controller">
        <alwaysOn>true</alwaysOn>
        <frameName>lh_thhub</frameName>
        <updateRate>100.0</updateRate>
        <bumperTopicName>contacts/lh_th/hub</bumperTopicName>
      </plugin>
    </sensor>
    <selfCollide>true</selfCollide>
  </gazebo>
  <link name="lh_thmiddle">
    <inertial>
      <mass value="0.020"/>
      <origin rpy="0 0 0" xyz="0 0 0.016"/>
      <inertia ixx="0.0000051" ixy="0.0" ixz="0.0" iyy="0.0000051" iyz="0.0" izz="0.00000121"/>
    </inertial>
    <visual>
      <origin rpy="0 0 0" xyz="0 0 0"/>
      <geometry name="lh_thmiddle_visual">
        <mesh filename="meshes/TH2_z.dae" scale="0.001 0.001 0.001"/>
      </geometry>
      <material name="shadow_thmiddle_material">
        <color rgba="0.2 0.2 0.2 1.0"/>
      </material>
    </visual>
    <collision>
      <origin rpy="0 0 0" xyz="0 0 0.012"/>
      <geometry name="lh_thmiddle_collision_geom">
        <cylinder length="0.018" radius="0.011"/>
      </geometry>
    </collision>
    <collision>
      <origin rpy="0 0 0" xyz="0 0 0.019"/>
      <geometry>
        <sphere radius="0.011"/>
      </geometry>
    </collision>
  </link>
  <joint name="lh_THJ2" type="revolute">
    <parent link="lh_thhub"/>
    <child link="lh_thmiddle"/>
    <origin rpy="0 0 0" xyz="0 0 0"/>
    <axis xyz="0 -1 0"/>
    <limit effort="2.0" lower="-0.698131700798" upper="0.698131700798" velocity="2.0"/>
    <dynamics damping="0.1"/>
  </joint>
  <gazebo reference="lh_THJ2">
    <provideFeedback>1</provideFeedback>
    <implicitSpringDamper>1</implicitSpringDamper>
  </gazebo>
  <transmission name="lh_thmiddle_transmission">
    <type>sr_mechanism_model/SimpleTransmission</type>
    <actuator name="lh_THJ2">
      <mechanicalReduction>1</mechanicalReduction>
    </actuator>
    <joint name="lh_THJ2">
      <hardwareInterface>EffortJointInterface</hardwareInterface>
      <hardwareInterface>PositionJointInterface</hardwareInterface>
    </joint>
  </transmission>
  <!-- prefix can be anything but usually is "r_" or  "l_" for right and left hands distinction -->
  <gazebo reference="lh_thmiddle">
    <sensor name="lh_thmiddle_contact" type="contact">
      <always_on>1</always_on>
      <update_rate>1000.0</update_rate>
      <contact>
        <collision>lh_thmiddle_collision</collision>
        <topic>lh_thmiddle_collision</topic>
      </contact>
      <plugin filename="libgazebo_ros_bumper.so" name="lh_thmiddle_gazebo_ros_bumper_controller">
        <alwaysOn>true</alwaysOn>
        <frameName>lh_thmiddle</frameName>
        <updateRate>100.0</updateRate>
        <bumperTopicName>contacts/lh_th/middle</bumperTopicName>
      </plugin>
    </sensor>
    <selfCollide>true</selfCollide>
  </gazebo>
  <!-- common -->
  <link name="lh_thdistal">
    <inertial>
      <mass value="0.016"/>
      <origin rpy="0 0 0" xyz="0 0 0.01375"/>
      <inertia ixx="0.0000021" ixy="0.0" ixz="0.0" iyy="0.0000022" iyz="0.0" izz="0.000001"/>
    </inertial>
    <visual>
      <origin rpy="0 0 0" xyz="0 0 0"/>
      <geometry name="lh_thdistal_visual">
        <!-- Standard distal  -->
        <mesh filename="meshes/TH1_z.dae" scale="0.001 0.001 0.001"/>
      </geometry>
      <material name="shadow_thmiddle_material">
        <color rgba="0.2 0.2 0.2 1.0"/>
      </material>
    </visual>
    <collision>
      <origin rpy="0 0 0" xyz="0 0 0"/>
      <geometry name="lh_thmiddle_collision_geom">
        <!-- Standard distal  -->
        <mesh filename="meshes/TH1_z.dae" scale="0.001 0.001 0.001"/>
        <!--      <box size="0.015 0.015 0.015" /> -->
      </geometry>
    </collision>
  </link>
  <joint name="lh_THJ1" type="revolute">
    <parent link="lh_thmiddle"/>
    <child link="lh_thdistal"/>
    <origin rpy="0 0 -1.57079632679" xyz="0 0 0.032"/>
    <axis xyz="1 0 0"/>
    <limit effort="1.0" lower="0" upper="1.57079632679" velocity="4.0"/>
    <dynamics damping="0.2"/>
  </joint>
  <gazebo reference="lh_THJ1">
    <provideFeedback>1</provideFeedback>
    <implicitSpringDamper>1</implicitSpringDamper>
  </gazebo>
  <link name="lh_thtip">
    <inertial>
      <mass value="0.001"/>
      <inertia ixx="0.0" ixy="0.0" ixz="0.0" iyy="0.0" iyz="0.0" izz="0.0"/>
    </inertial>
  </link>
  <joint name="lh_thtip" type="fixed">
    <parent link="lh_thdistal"/>
    <child link="lh_thtip"/>
    <origin rpy="0 0 0" xyz="0 0 0.0275"/>
  </joint>
  <!-- prefix can be anything but usually is "r_" or  "l_" for right and left hands distinction -->
  <gazebo reference="lh_thdistal">
    <sensor name="lh_thdistal_contact" type="contact">
      <always_on>1</always_on>
      <update_rate>1000.0</update_rate>
      <contact>
        <collision>lh_thdistal_collision</collision>
        <topic>lh_thdistal_collision</topic>
      </contact>
      <plugin filename="libgazebo_ros_bumper.so" name="lh_thdistal_gazebo_ros_bumper_controller">
        <alwaysOn>true</alwaysOn>
        <frameName>lh_thdistal</frameName>
        <updateRate>100.0</updateRate>
        <bumperTopicName>contacts/lh_th/distal</bumperTopicName>
      </plugin>
    </sensor>
    <mu1 value="500.0"/>
    <mu2 value="500.0"/>
    <kp value="10000000.0"/>
    <kd value="1.0"/>
    <selfCollide>true</selfCollide>
  </gazebo>
  <transmission name="lh_thdistal_transmission">
    <type>sr_mechanism_model/SimpleTransmission</type>
    <actuator name="lh_THJ1">
      <mechanicalReduction>1</mechanicalReduction>
    </actuator>
    <joint name="lh_THJ1">
      <hardwareInterface>EffortJointInterface</hardwareInterface>
      <hardwareInterface>PositionJointInterface</hardwareInterface>
    </joint>
  </transmission>
</robot>
